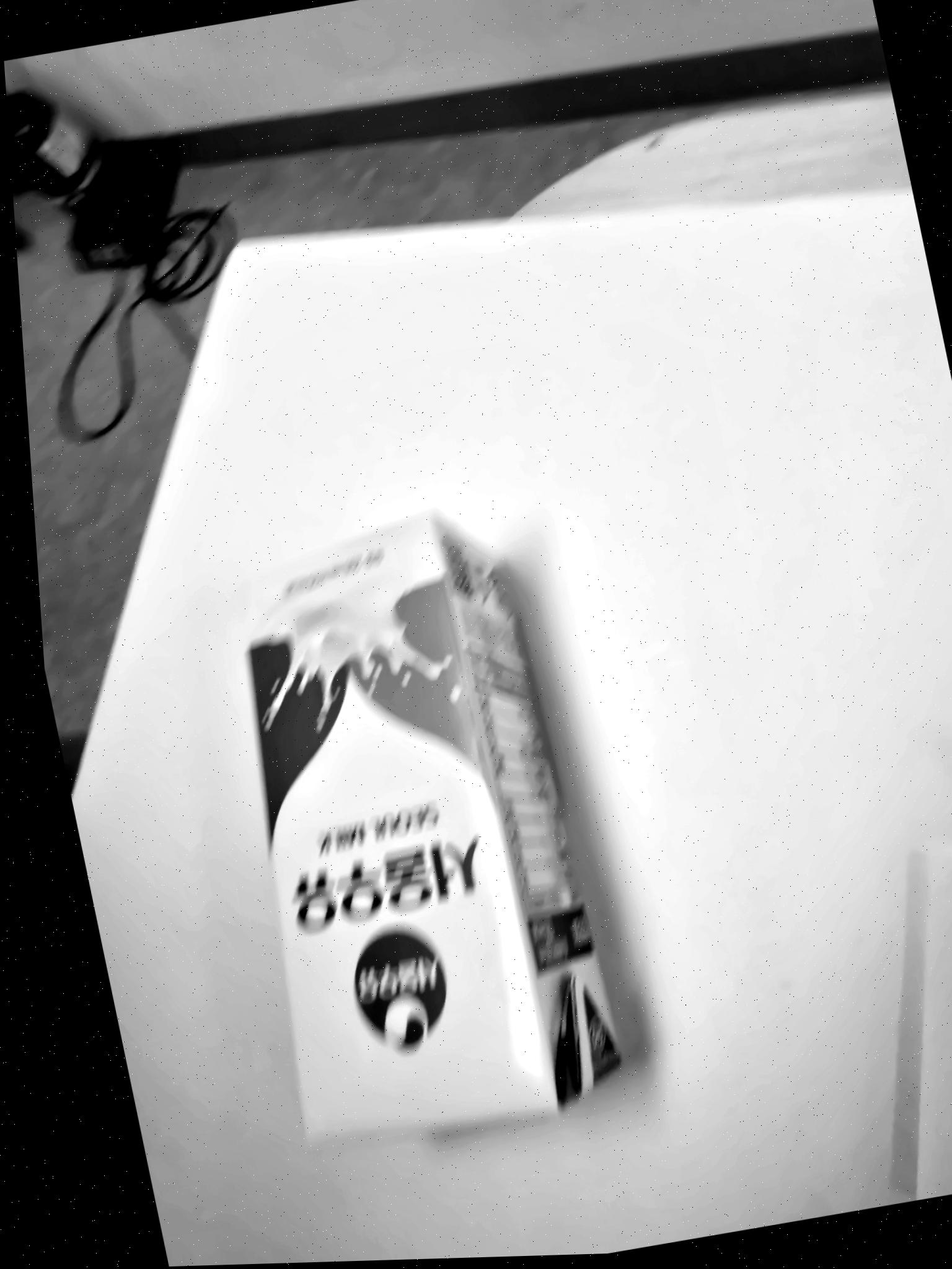milk_green: (226, 502, 637, 1145)
